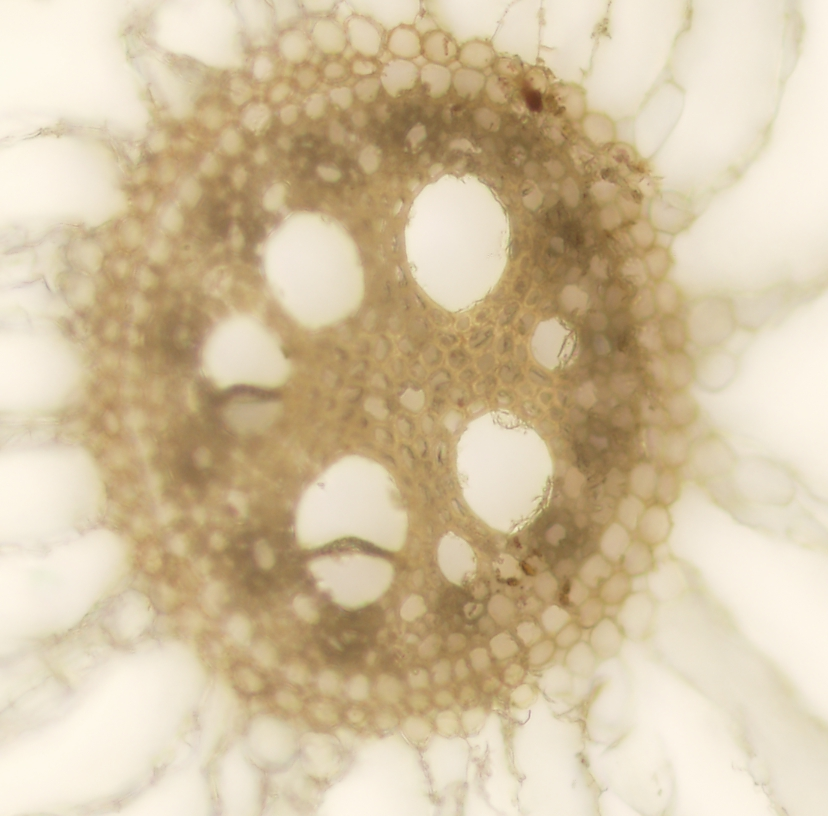lm: (293, 454, 408, 612), (403, 172, 511, 313), (456, 407, 554, 535), (262, 210, 367, 328), (196, 314, 291, 434)
